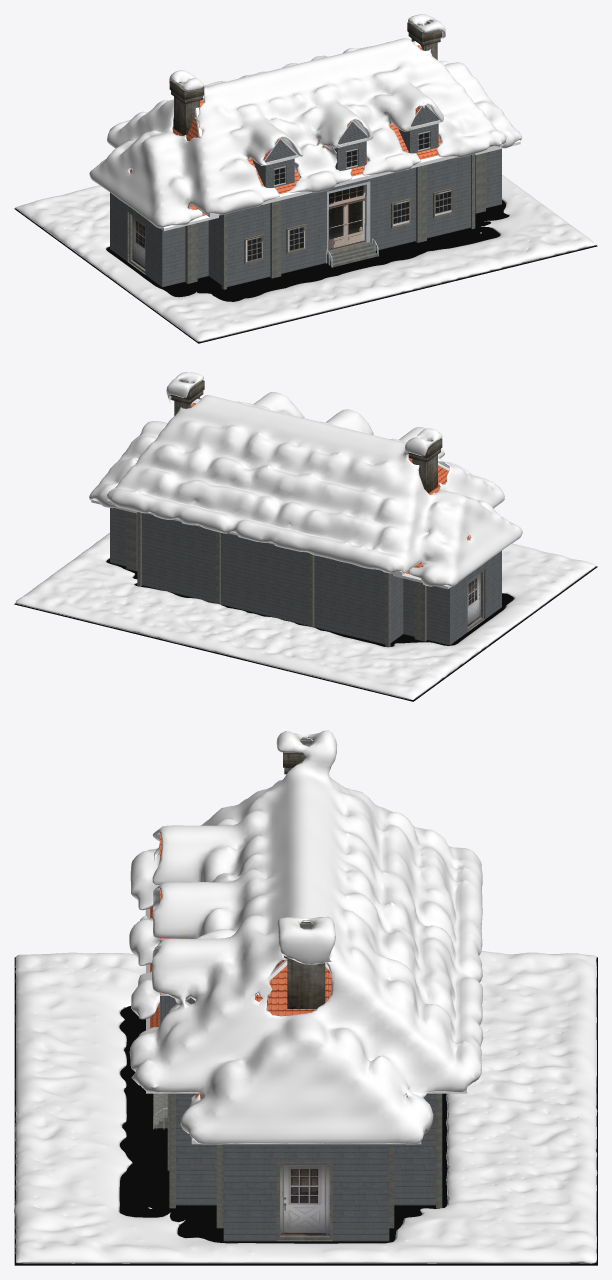
The model's file is House_S10P2.glb.
3 views of the same model, one above another, from view 1: azimuth 30°, elevation 25°; view 2: azimuth 150°, elevation 25°; view 3: azimuth 270°, elevation 25° (orthographic). The views are drawn at different scales.
Visible parts, largest first — view 1: SnowMesh, House1, Plane; view 2: SnowMesh, House1, Plane; view 3: SnowMesh, House1, Plane.
Boxes of the visible parts, left/top/right/bottom form: SnowMesh: left=15, top=14, right=596, bottom=341; House1: left=110, top=22, right=520, bottom=289; Plane: left=14, top=200, right=597, bottom=343; SnowMesh: left=15, top=372, right=595, bottom=699; House1: left=91, top=380, right=503, bottom=647; Plane: left=14, top=558, right=597, bottom=701; SnowMesh: left=14, top=730, right=597, bottom=1263; House1: left=145, top=738, right=466, bottom=1241; Plane: left=14, top=957, right=597, bottom=1265.
Size of the model in its own units: 10 by 4.34 by 8.01.
12 materials, 9 textured.
